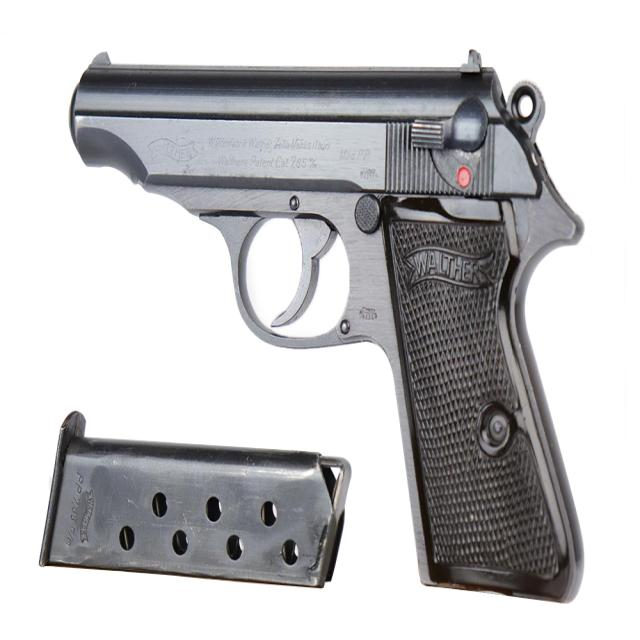HandGun: (67, 50, 586, 607)
